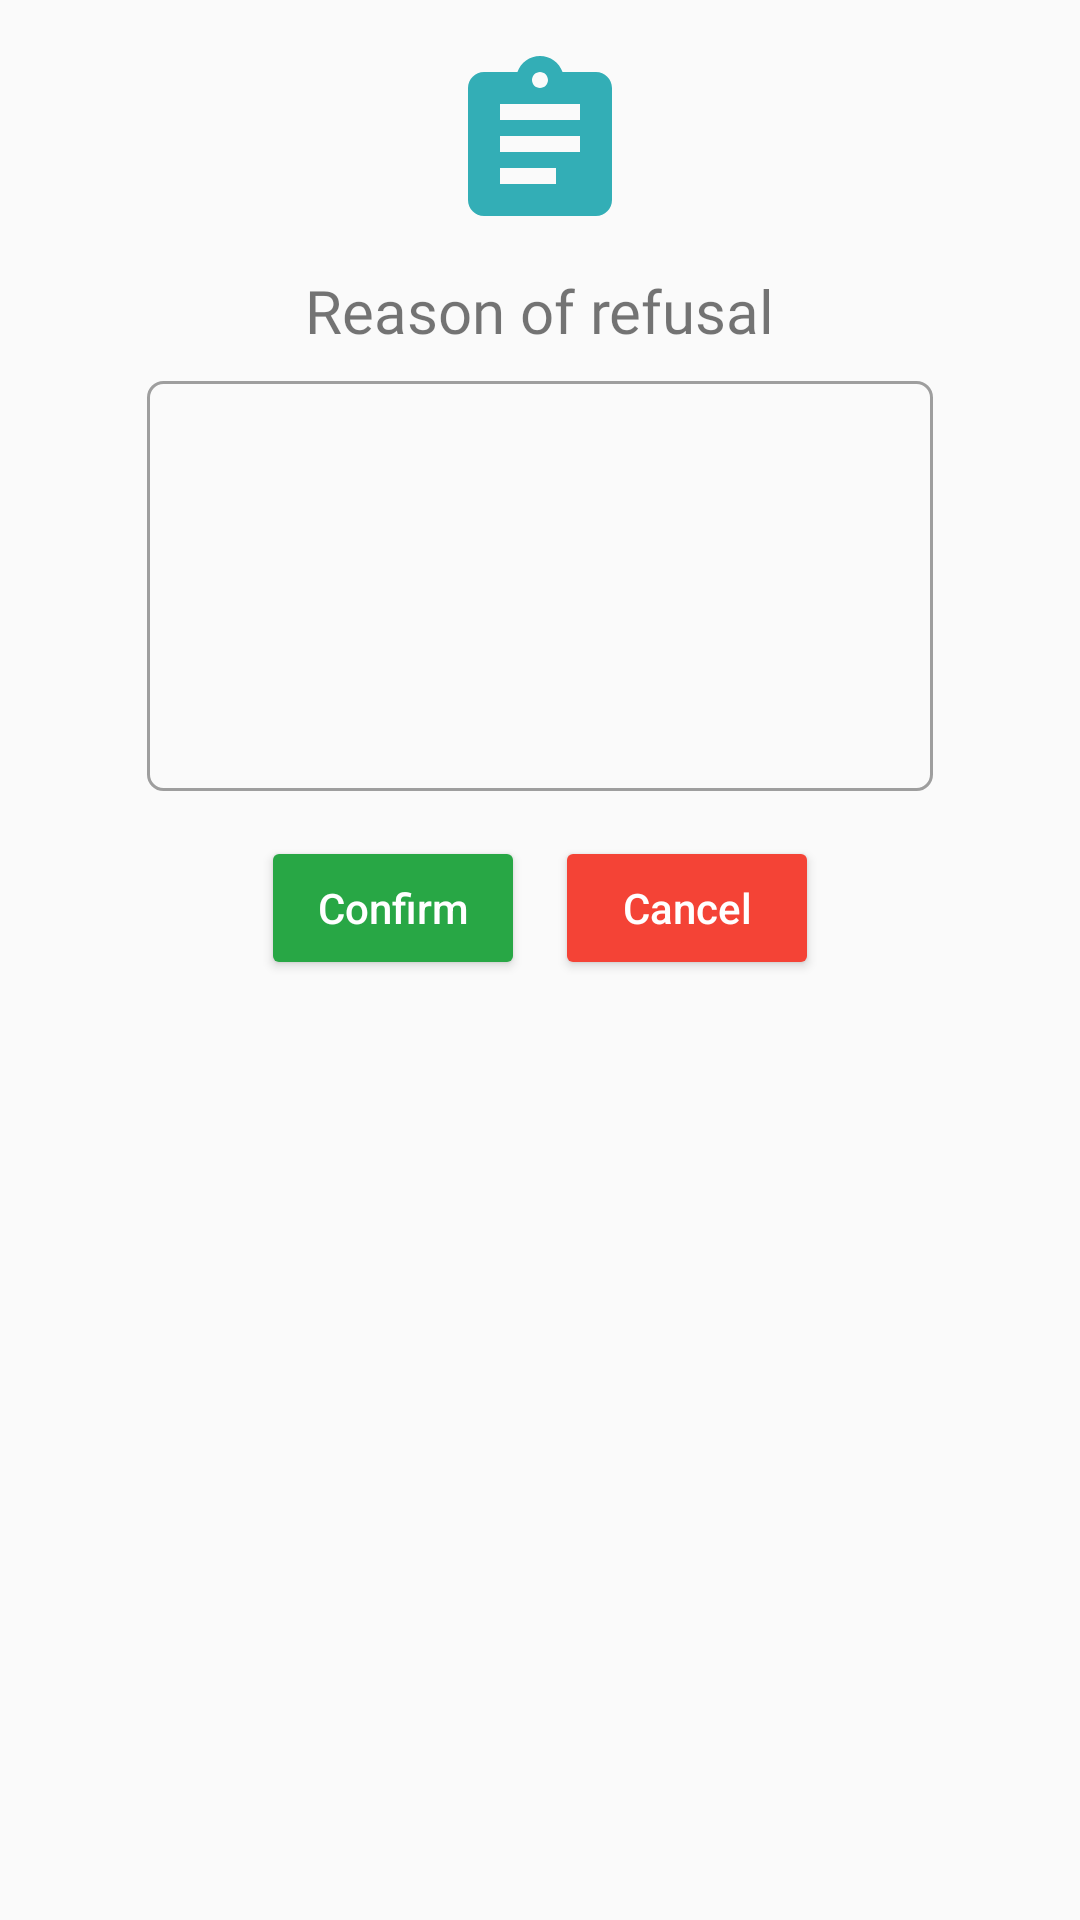

Screen size 1080w x 1920h. Icon name, then its center in pixels as (x,y):
assignment: (540,136)
